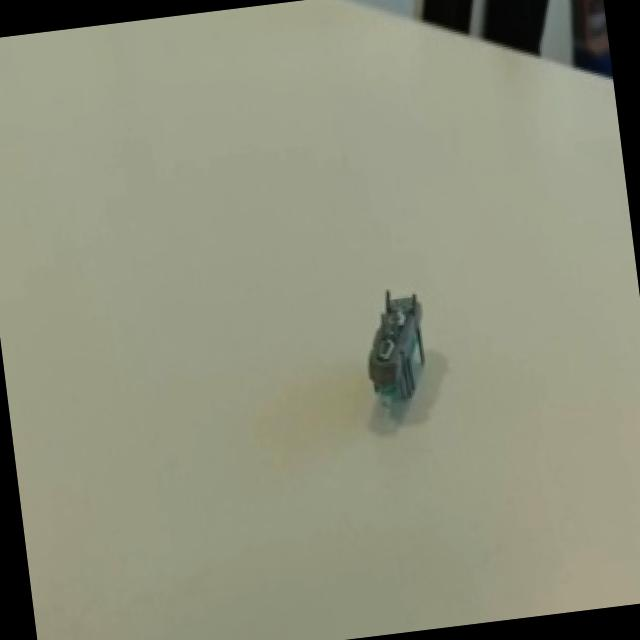5_NanoBug_GrisClaro: (318, 256, 459, 462)
